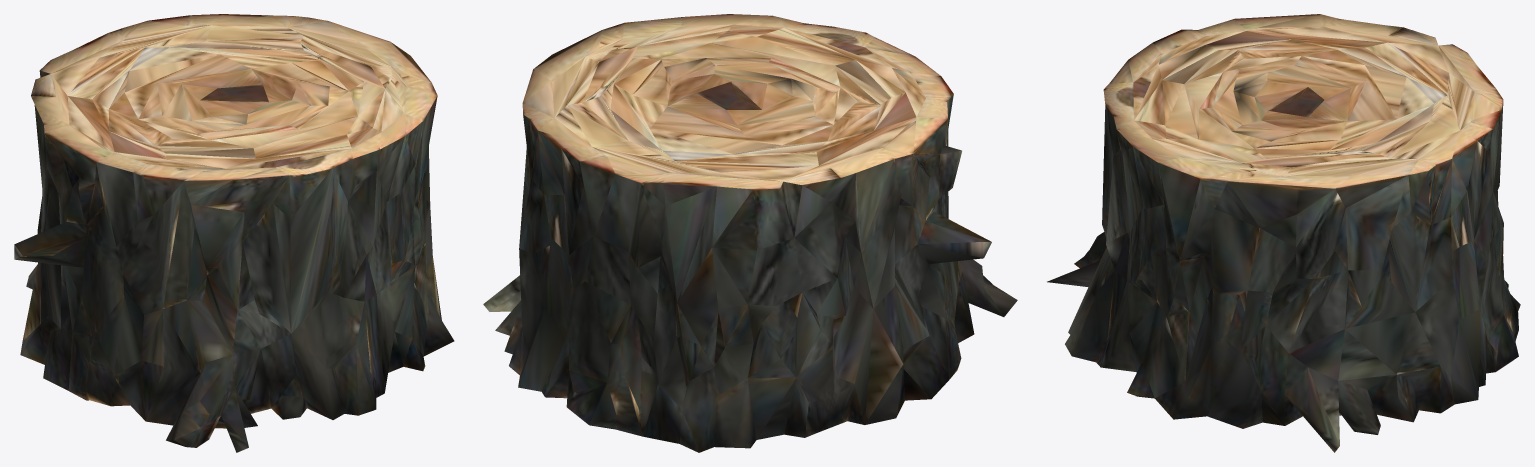
The model's file is ceppo.glb.
The picture shows the model from 3 angles, left to right: view 1: azimuth 30°, elevation 25°; view 2: azimuth 150°, elevation 25°; view 3: azimuth 270°, elevation 25°; orthographic projection. The views are drawn at different scales.
Parts seen in each view (by area): view 1: Mesh_0.010; view 2: Mesh_0.010; view 3: Mesh_0.010.
Part boxes in pixels (x1,y1,x2,y2): Mesh_0.010: [14, 14, 454, 452]; Mesh_0.010: [483, 14, 1017, 452]; Mesh_0.010: [1047, 14, 1520, 452].
Size of the model in its own units: 1.91 by 0.9903 by 1.73.
1 material, 1 textured.
